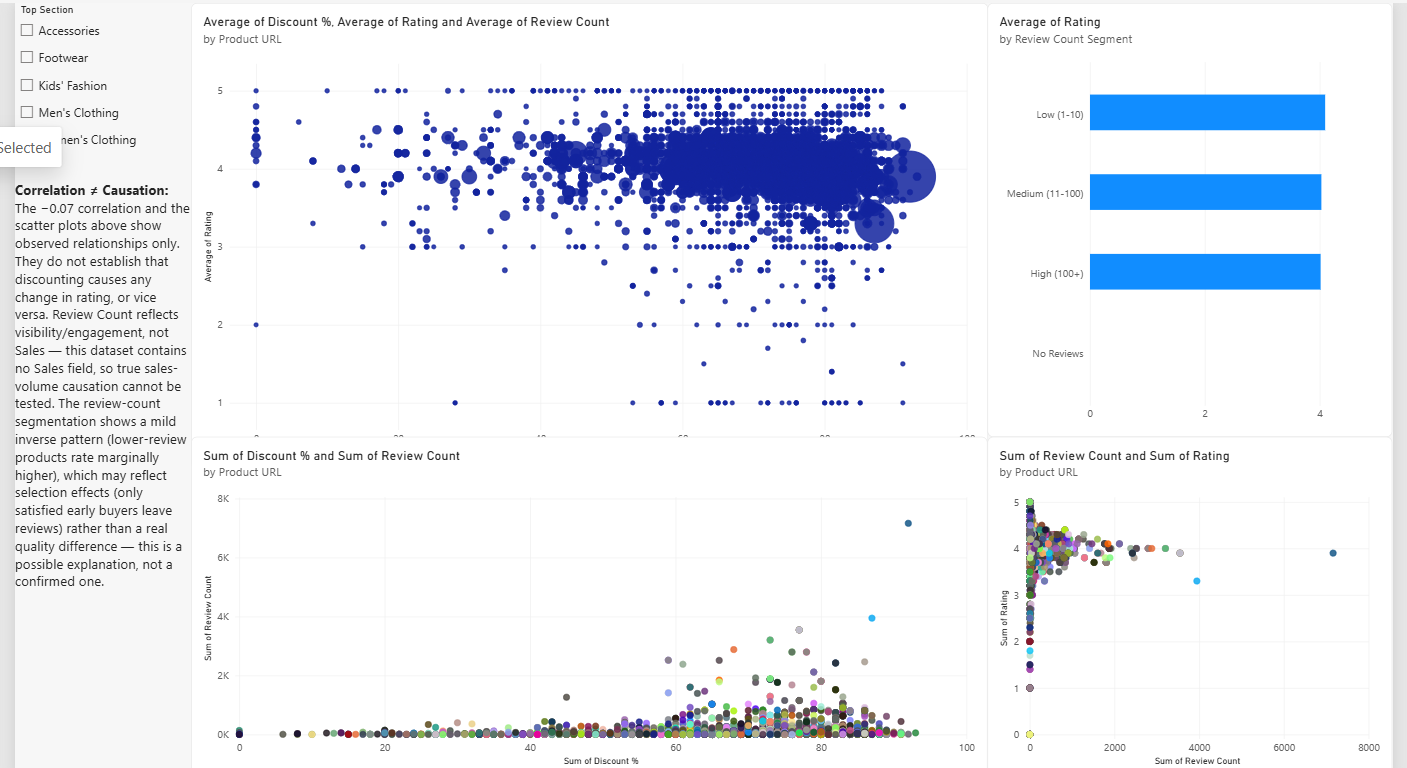

The page's visual inventory and layout, read from the dashboard file:
{"tool":"powerbi","page":{"name":"Page 3","canvas":[1920,1080],"ordinal":2},"visuals":[{"type":"slicer","fields":{"Values":["Cleaned_snapdeal.Top Section"]},"box":[0,0,1676,636],"z":0},{"type":"scatterChart","fields":{"Series":["Cleaned_snapdeal.Product URL"],"Size":["Avg(Cleaned_snapdeal.Review Count)"],"X":["Avg(Cleaned_snapdeal.Discount %)"],"Y":["Avg(Cleaned_snapdeal.Rating)"]},"box":[245,0,1110,650],"z":1000},{"type":"scatterChart","fields":{"Series":["Cleaned_snapdeal.Product URL"],"X":["Sum(Cleaned_snapdeal.Discount %)"],"Y":["Sum(Cleaned_snapdeal.Review Count)"]},"box":[245.2,604.8,1109.5,476.2],"z":2000},{"type":"scatterChart","fields":{"Series":["Cleaned_snapdeal.Product URL"],"X":["Sum(Cleaned_snapdeal.Review Count)"],"Y":["Sum(Cleaned_snapdeal.Rating)"]},"box":[1354.8,604.8,564.3,476.2],"z":3000},{"type":"barChart","fields":{"Category":["Cleaned_snapdeal.Review Count Segment"],"Y":["Avg(Cleaned_snapdeal.Rating)"]},"box":[1354.8,0,564.3,604.8],"z":4000},{"type":"textbox","box":[0,247.6,245.2,833.3],"z":5000}]}

Visuals, with their boxes on the page's 1920x1080 design canvas (x1, y1, x2, y2). These are canvas units, not pixel positions in the 1407x768 screenshot, which may show the page scaled, cropped or inside an application window:
slicer - Cleaned_snapdeal.Top Section: [0, 0, 1676, 636]
scatterChart - Cleaned_snapdeal.Product URL x Avg(Cleaned_snapdeal.Review Count): [245, 0, 1355, 650]
scatterChart - Cleaned_snapdeal.Product URL x Sum(Cleaned_snapdeal.Discount %): [245, 605, 1355, 1081]
scatterChart - Cleaned_snapdeal.Product URL x Sum(Cleaned_snapdeal.Review Count): [1355, 605, 1919, 1081]
barChart - Cleaned_snapdeal.Review Count Segment x Avg(Cleaned_snapdeal.Rating): [1355, 0, 1919, 605]
textbox: [0, 248, 245, 1081]
